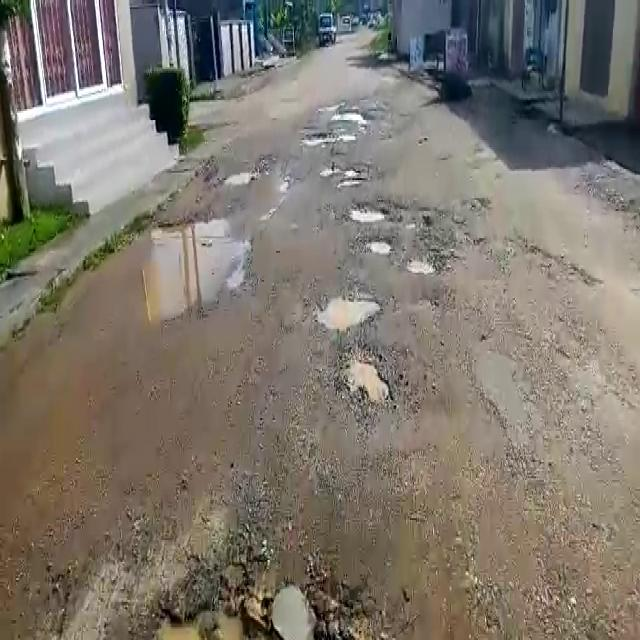Pothole: (65, 224, 251, 328), (340, 344, 392, 416), (316, 286, 382, 332), (320, 164, 367, 188), (343, 201, 389, 222), (406, 253, 436, 276), (362, 237, 395, 257), (222, 168, 257, 186), (303, 130, 343, 145), (332, 108, 369, 124)
